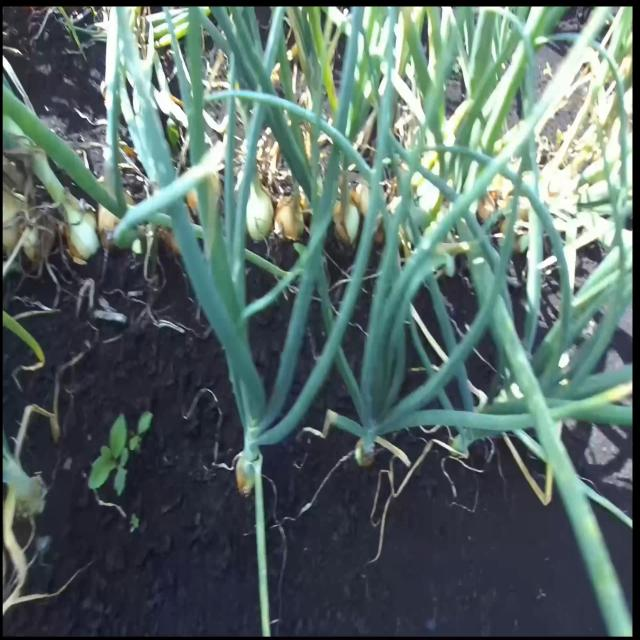onion: (62, 202, 100, 261), (329, 192, 364, 247), (245, 178, 274, 243), (274, 192, 306, 244)
